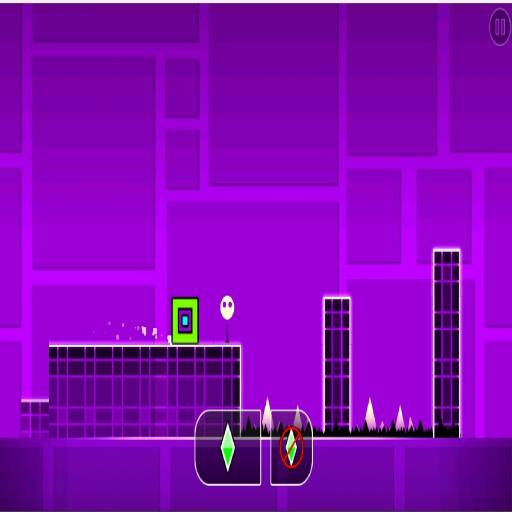block: (47, 344, 243, 437), (433, 249, 460, 430), (323, 296, 351, 429), (21, 399, 48, 436)
player: (172, 297, 198, 343)
spike: (364, 397, 376, 429), (262, 397, 272, 430), (395, 405, 404, 429), (293, 405, 302, 428), (408, 418, 413, 429), (380, 421, 384, 429)
